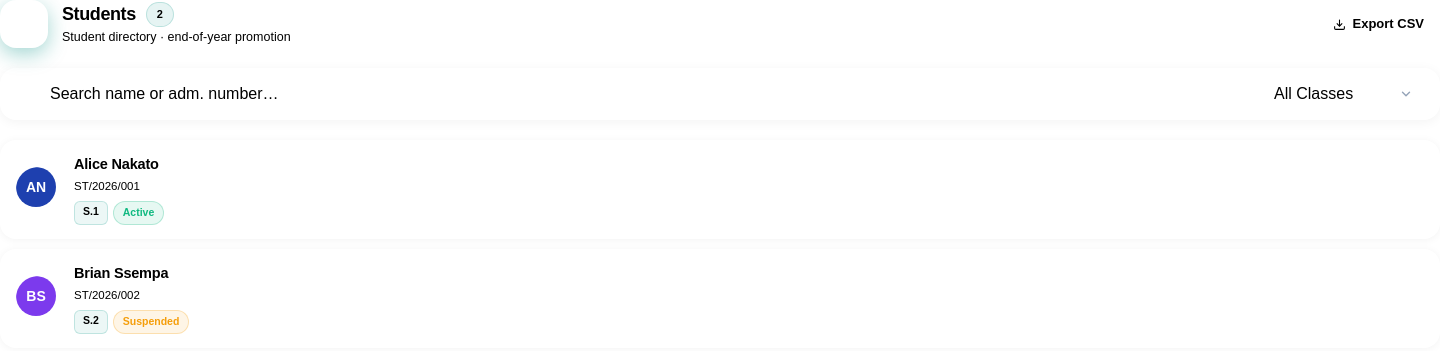
Test case: DeputyStudentsPage › shows "No matching students" when search finds nothing
Step 1. Type "zzznomatch" into the field with placeholder "Search name or adm. number…" → (640, 94), box [16, 82, 1264, 106]
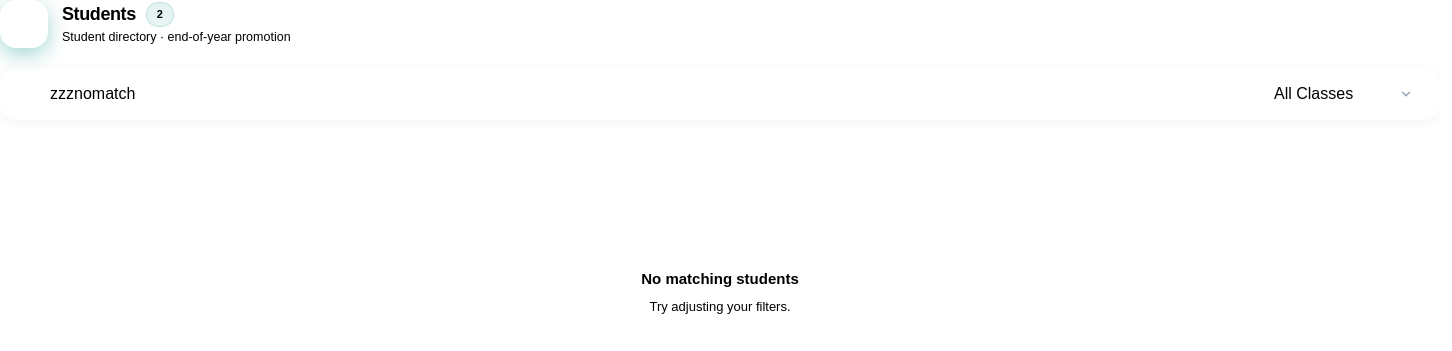
Expected: the text "No matching students" is shown, [641, 270, 799, 287]
